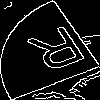R: (24, 24, 96, 82)
